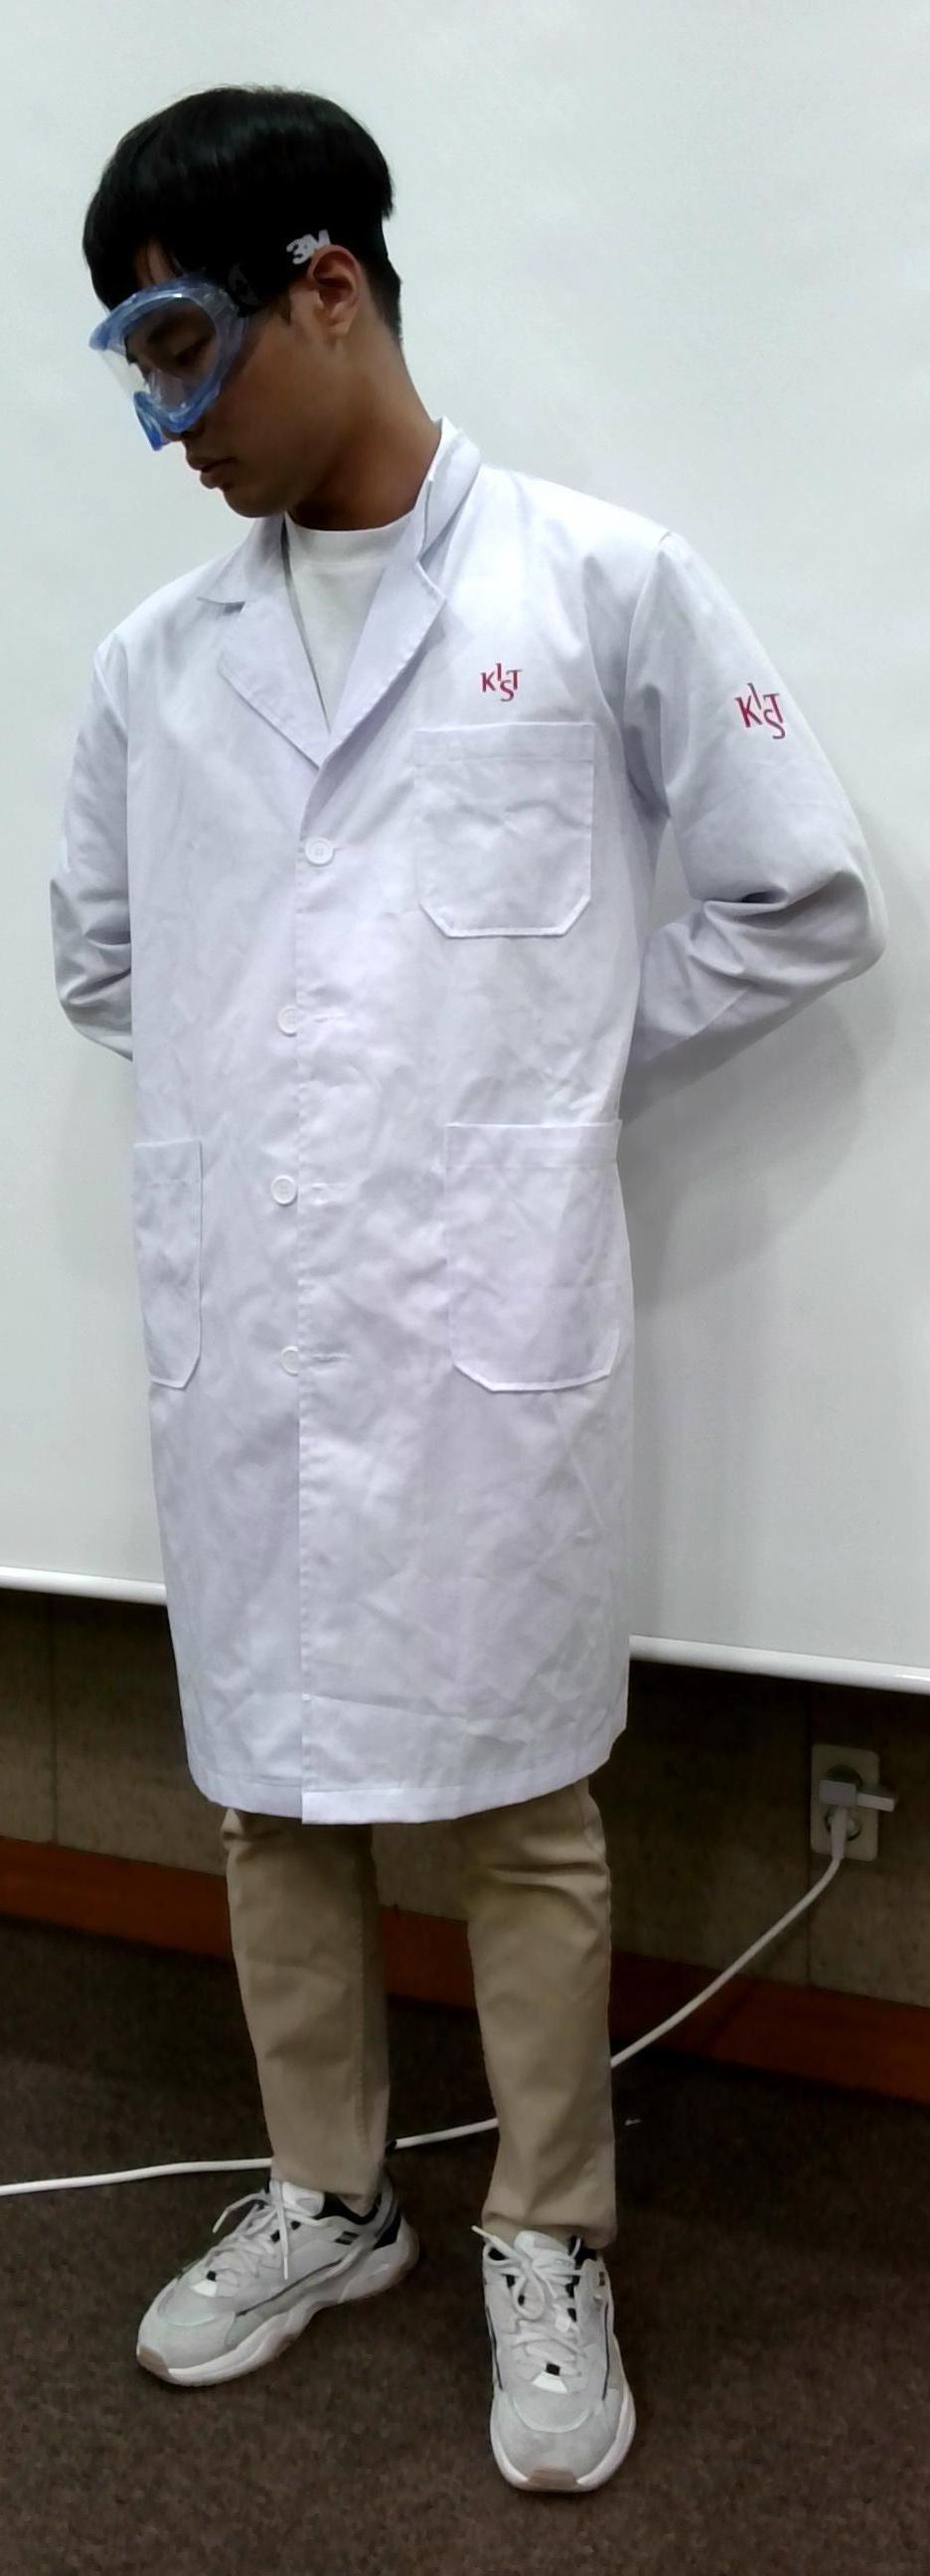lab_coat: (41, 588, 667, 1801)
